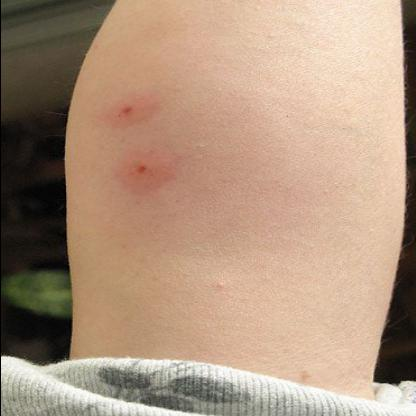Wasp: (109, 141, 185, 202), (97, 92, 165, 132)
